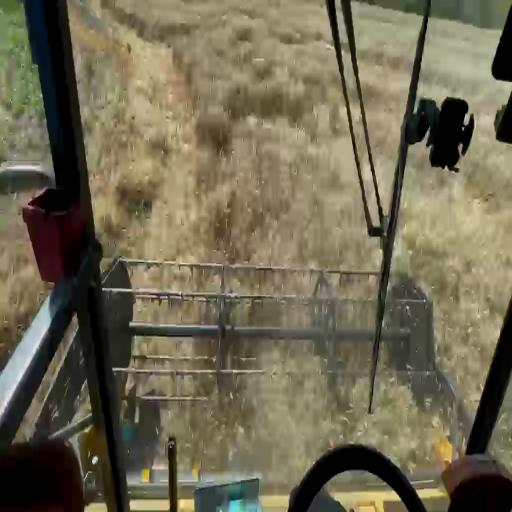arpa: (96, 0, 363, 263)
